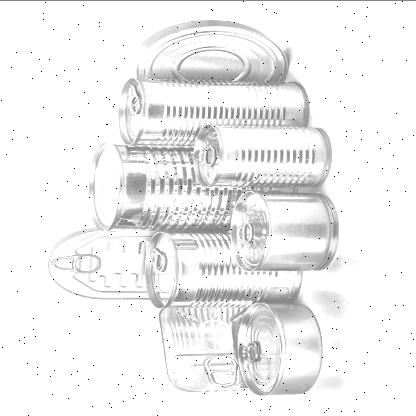Can: (87, 139, 299, 231), (138, 228, 304, 310), (112, 78, 310, 146), (128, 17, 294, 81), (43, 224, 176, 300), (226, 189, 344, 273), (229, 300, 325, 400), (152, 300, 252, 392), (192, 124, 334, 188)
